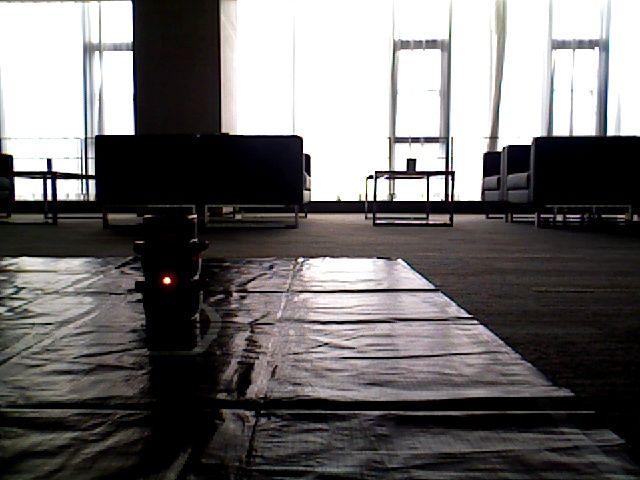yellow: (150, 216, 187, 327)
